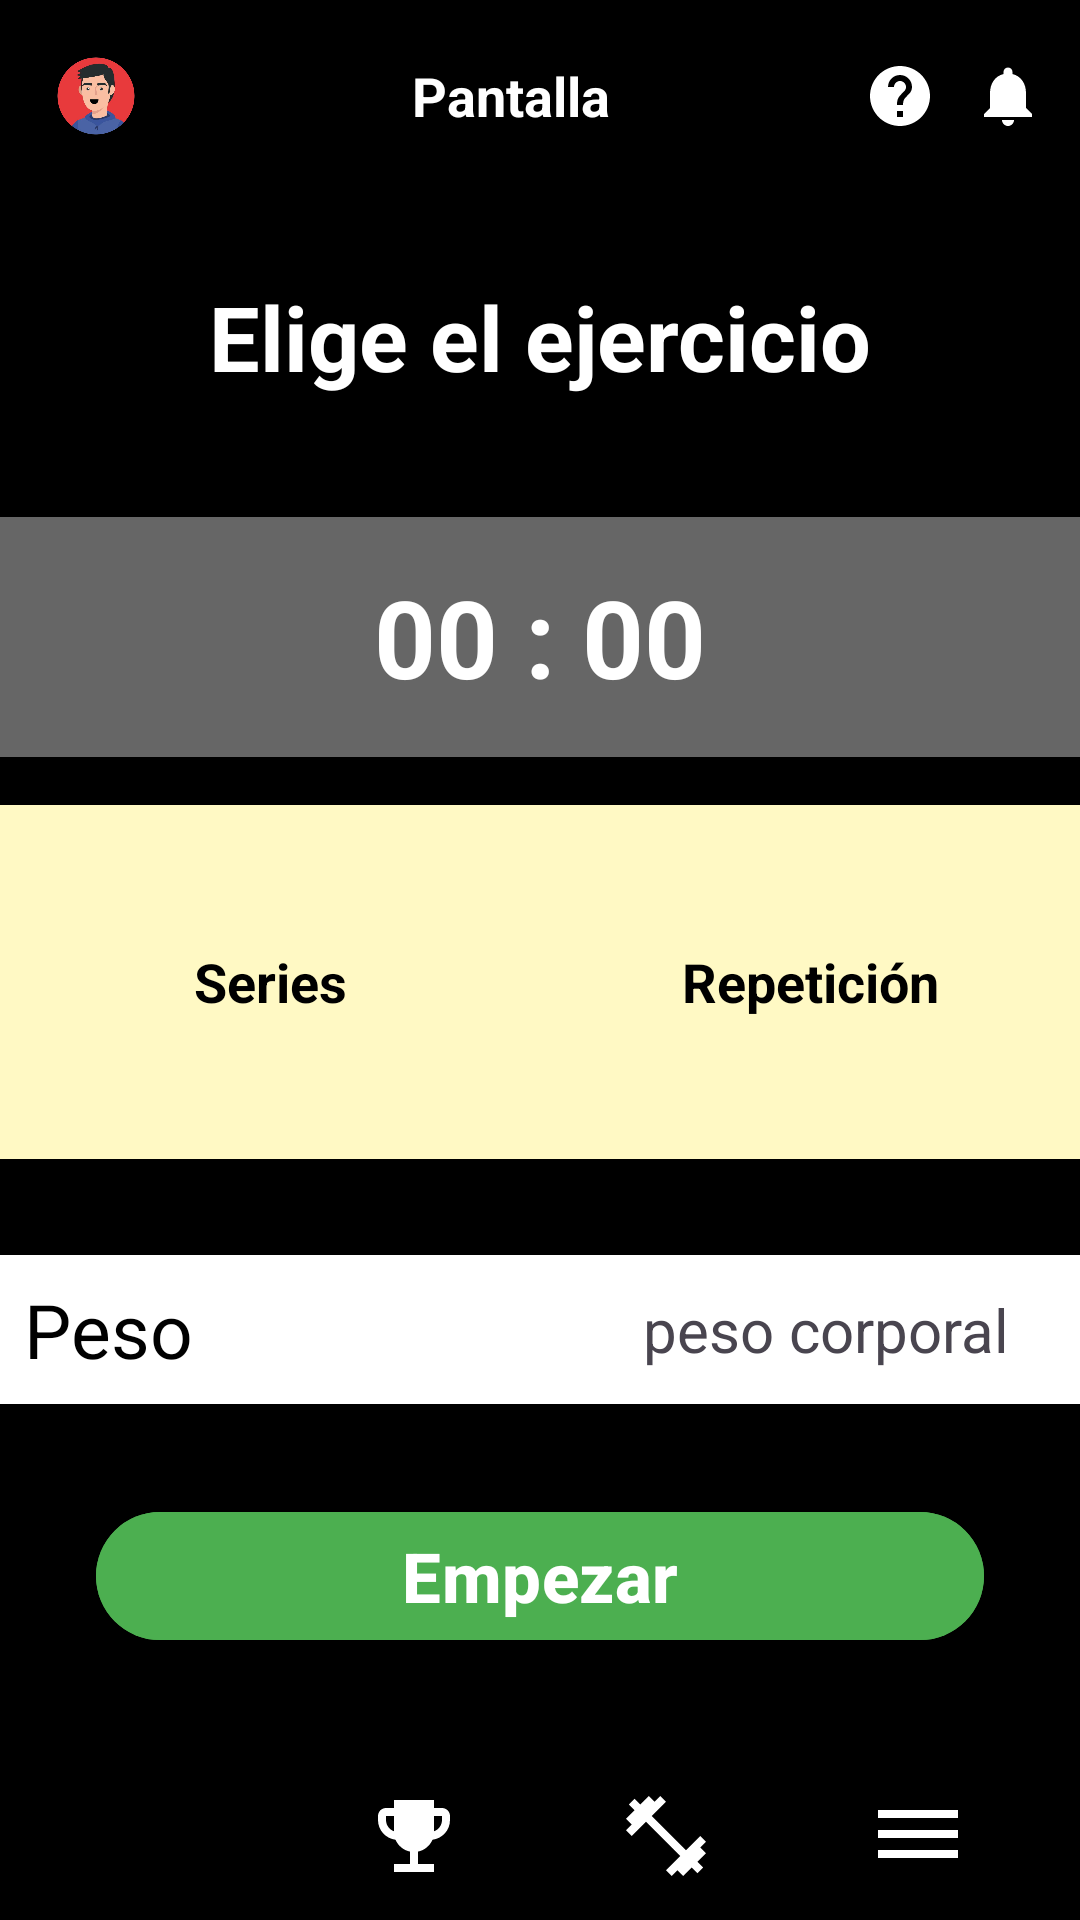

Icon click points for this 1080×1920 phone screenshot, format (x,y):
Ayuda: (900,96)
Icono de entrenamiento: (666,1836)
Icono de logros: (414,1836)
Icono del menú: (918,1834)
Notificaciones: (1008,96)
